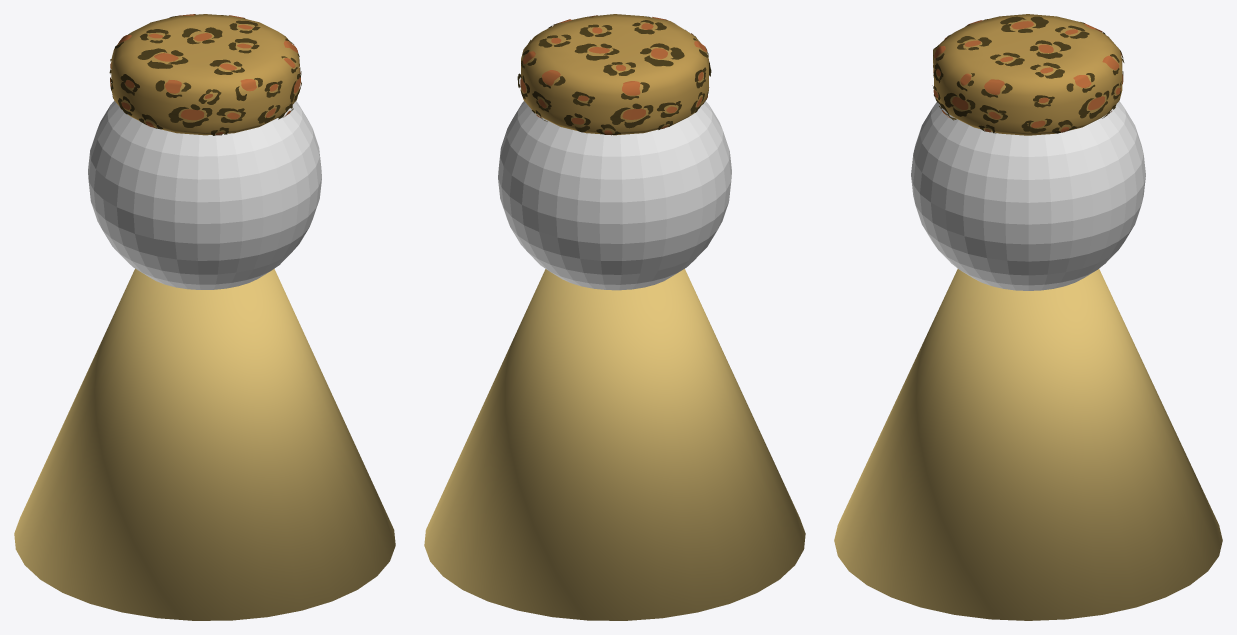
File: figure.fbx
The picture shows the model from 3 angles, left to right: view 1: azimuth 30°, elevation 25°; view 2: azimuth 150°, elevation 25°; view 3: azimuth 270°, elevation 25°; orthographic projection.
Visible parts, largest first — view 1: Cone, Sphere, PillboxHat; view 2: Cone, Sphere, PillboxHat; view 3: Cone, Sphere, PillboxHat.
Part boxes in pixels (x1,y1,x2,y2): Cone: (14, 268, 395, 620); Sphere: (88, 101, 321, 289); PillboxHat: (109, 14, 301, 135); Cone: (424, 269, 805, 620); Sphere: (498, 101, 731, 290); PillboxHat: (517, 14, 711, 135); Cone: (834, 269, 1222, 620); Sphere: (911, 101, 1145, 290); PillboxHat: (932, 14, 1124, 135).
Size of the model in its own units: 163 by 234 by 167.
